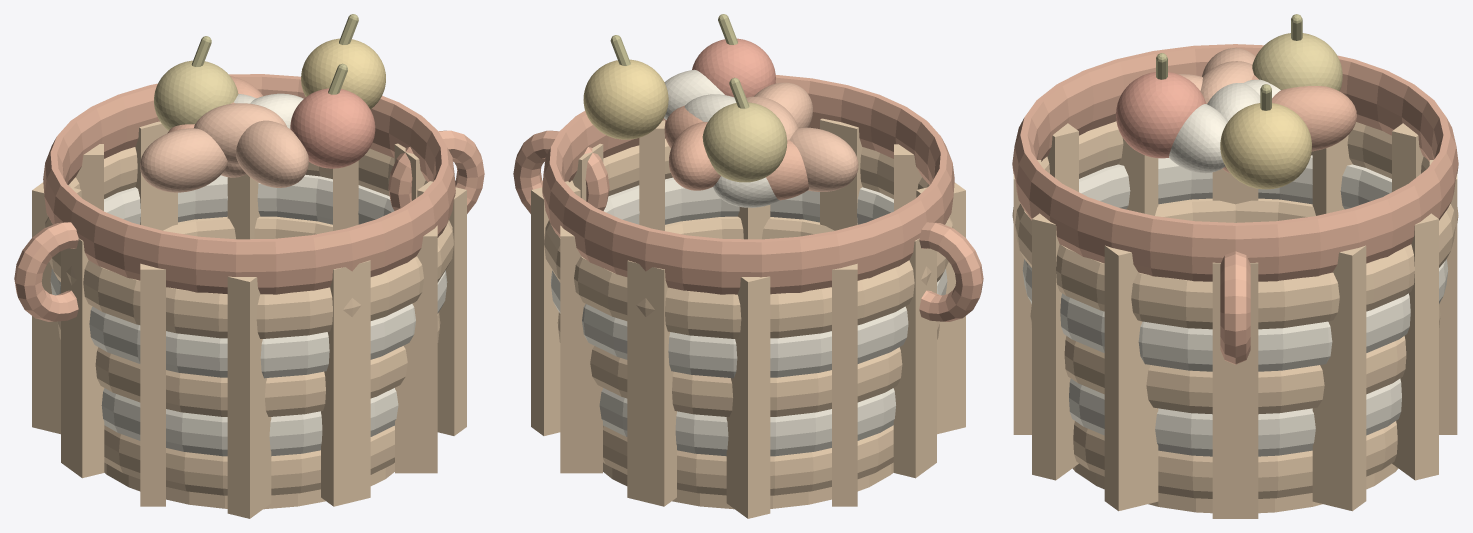
The model's file is basket.glb.
3 views of the same model, side by side, from view 1: azimuth 30°, elevation 25°; view 2: azimuth 150°, elevation 25°; view 3: azimuth 270°, elevation 25° (orthographic). The views are drawn at different scales.
Parts seen in each view (by area): view 1: Rim, Weave_3, Weave_4, Weave_2, Strip_0, Strip_11, Strip_9, Strip_1, Weave_1, Weave_0, Strip_10, Strip_2 (+16 smaller); view 2: Rim, Weave_4, Weave_3, Weave_2, Strip_6, Strip_7, Strip_9, Strip_5, Weave_1, Weave_0, Strip_8, Strip_4 (+21 smaller); view 3: Rim, Weave_4, Weave_3, Weave_2, Strip_2, Strip_4, Strip_3, Strip_1, Strip_5, Weave_1, Weave_0, Fruit_1 (+16 smaller).
Boxes of the visible parts, x1,y1,x2,y2 form: Rim: (43, 74, 455, 294); Weave_3: (50, 174, 447, 378); Weave_4: (44, 147, 453, 338); Weave_2: (58, 216, 440, 416); Strip_0: (321, 260, 370, 506); Strip_11: (227, 276, 271, 518); Strip_9: (61, 238, 104, 478); Strip_1: (395, 225, 437, 473); Weave_1: (101, 388, 398, 456); Weave_0: (104, 425, 394, 495); Strip_10: (140, 263, 165, 506); Strip_2: (417, 181, 466, 435); Rim: (542, 75, 954, 294); Weave_4: (544, 138, 953, 338); Weave_3: (551, 177, 947, 378); Weave_2: (557, 216, 939, 416); Strip_6: (627, 260, 676, 506); Strip_7: (726, 276, 770, 518); Strip_9: (893, 238, 936, 478); Strip_5: (560, 225, 602, 473); Weave_1: (599, 388, 895, 456); Weave_0: (603, 425, 893, 495); Strip_8: (832, 263, 857, 506); Strip_4: (531, 181, 580, 435); Rim: (1012, 44, 1458, 281); Weave_4: (1012, 121, 1458, 329); Weave_3: (1022, 155, 1448, 371); Weave_2: (1030, 198, 1440, 414); Strip_2: (1104, 245, 1158, 511); Strip_4: (1312, 245, 1366, 511); Strip_3: (1212, 262, 1258, 518); Strip_1: (1032, 213, 1078, 480); Strip_5: (1392, 213, 1438, 480); Weave_1: (1069, 378, 1401, 456); Weave_0: (1073, 421, 1397, 498); Fruit_1: (1220, 103, 1311, 189).
Bounding box in the file's own units: 0.95 × 0.75 × 0.7279.
